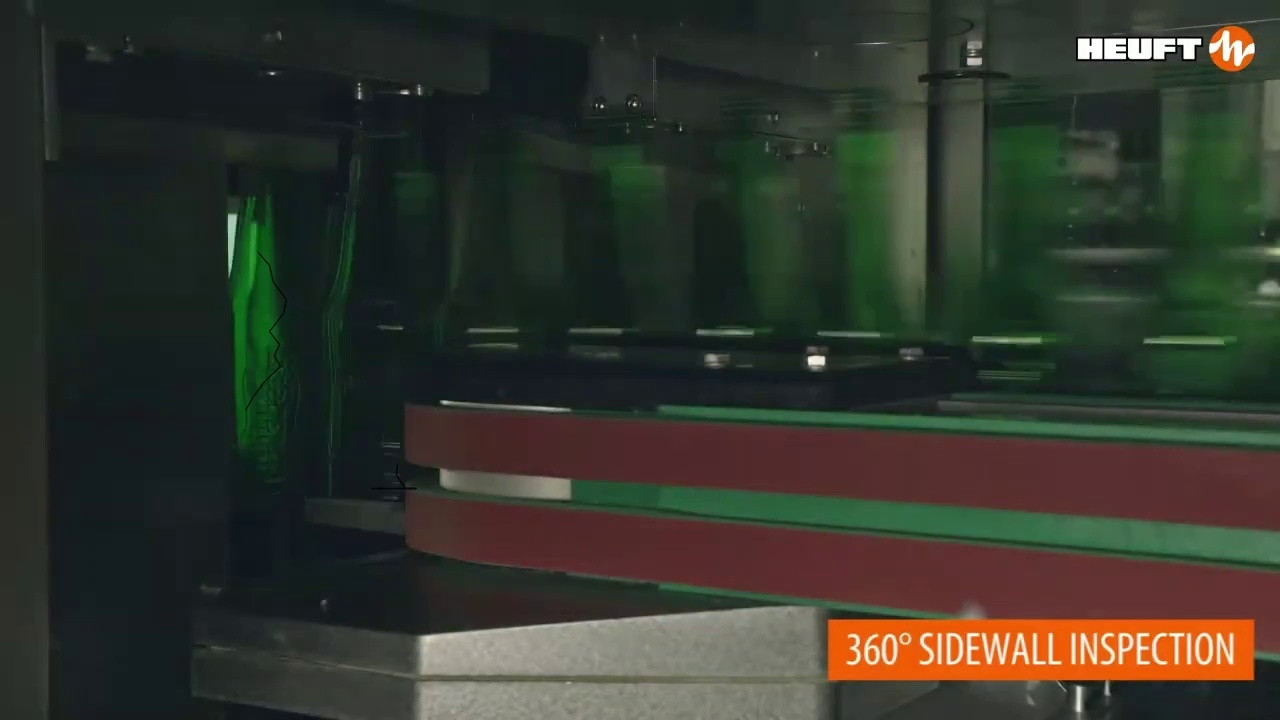bottle: (319, 136, 439, 568)
crack: (245, 251, 286, 410), (371, 463, 416, 488)
